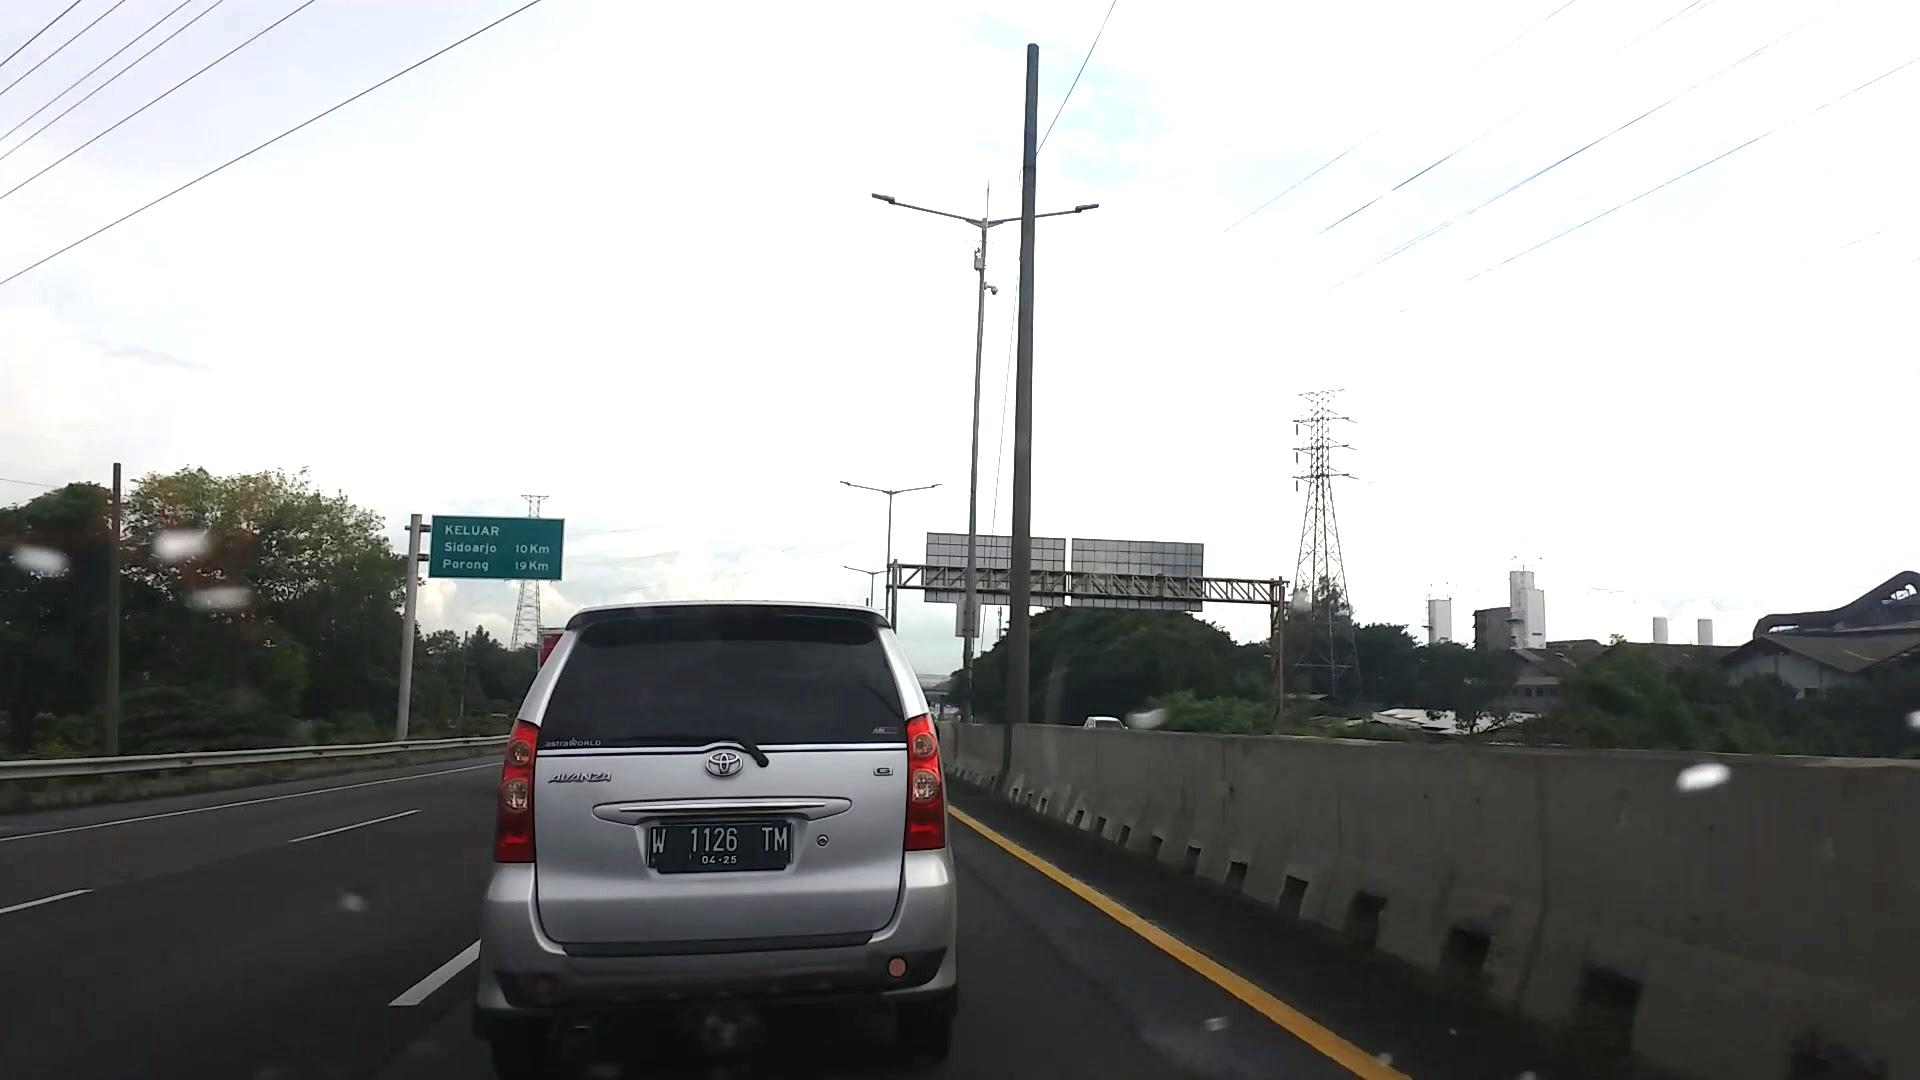plate_positive: (646, 824, 791, 866)
